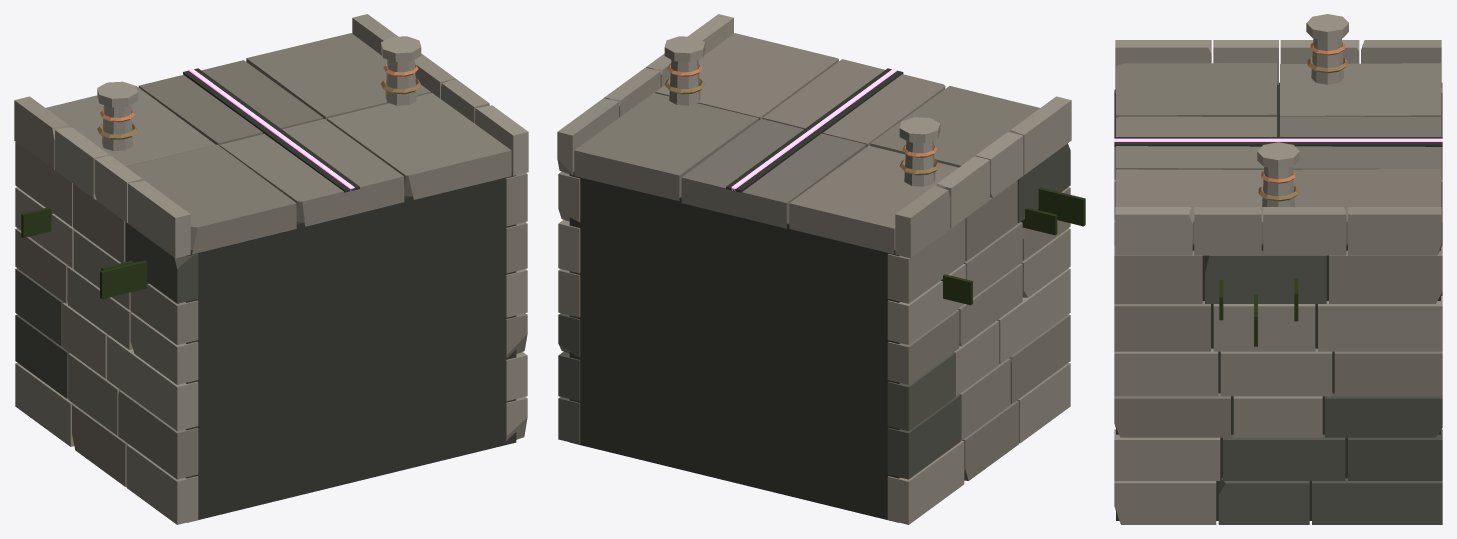
File: zr_pier_4m.glb
The picture shows the model from 3 angles, left to right: view 1: azimuth 30°, elevation 25°; view 2: azimuth 150°, elevation 25°; view 3: azimuth 270°, elevation 25°; orthographic projection.
Visible parts, largest first — view 1: zr_pier_4m; view 2: zr_pier_4m; view 3: zr_pier_4m.
Part boxes in pixels (<box>): zr_pier_4m: <box>14,14,528,524</box>; zr_pier_4m: <box>557,14,1085,524</box>; zr_pier_4m: <box>1114,14,1442,524</box>.
Size of what is drawn, in the model's own units: 6.29 by 4.74 by 4.
